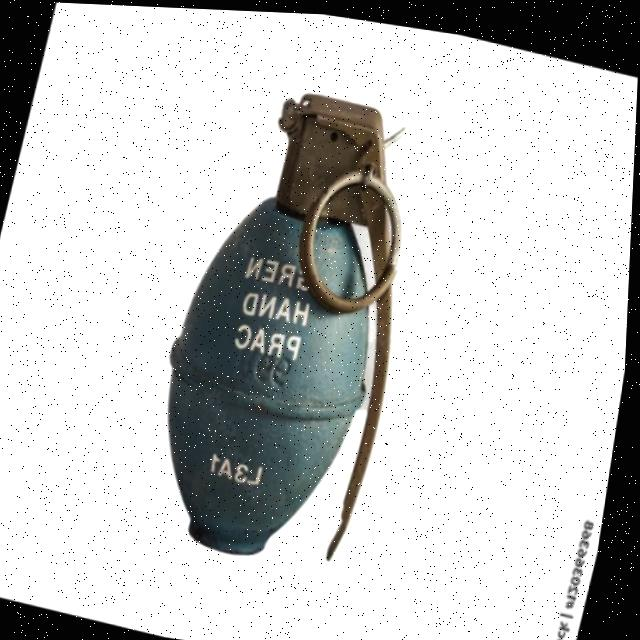grenade: (123, 44, 464, 596)
